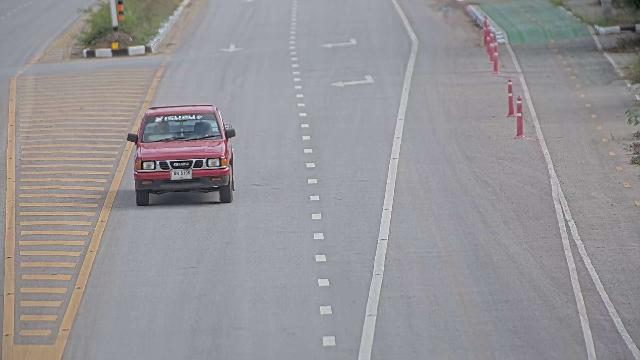pickup-truck: (126, 103, 236, 206)
